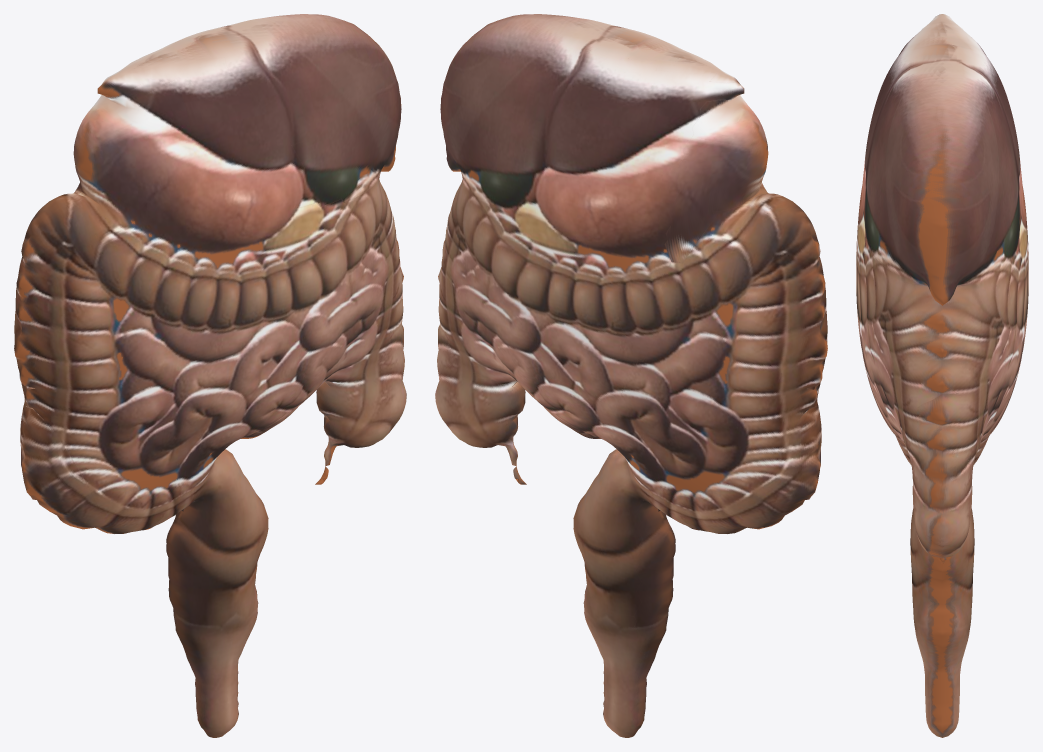
File: organ_organ_pencernaan_manusia_zick.glb
The picture shows the model from 3 angles, left to right: view 1: azimuth 30°, elevation 25°; view 2: azimuth 150°, elevation 25°; view 3: azimuth 270°, elevation 25°; orthographic projection.
Visible parts, largest first — view 1: Object_5; view 2: Object_5; view 3: Object_5.
Part boxes in pixels (x1=…): Object_5: x1=14, y1=14, x2=406, y2=737; Object_5: x1=435, y1=14, x2=827, y2=737; Object_5: x1=856, y1=14, x2=1028, y2=737.
Size of the model in its own units: 0.493 by 0.85 by 0.1932.
Materials: 1 (1 with a texture image).
